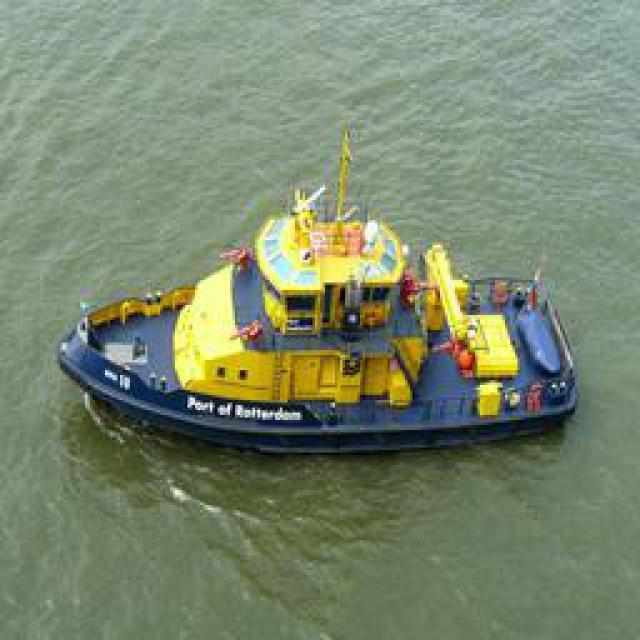Ship: (58, 150, 583, 463)
